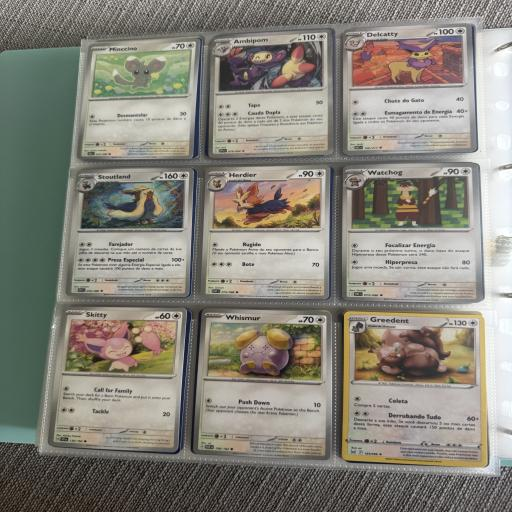card: (341, 312, 492, 467), (192, 305, 338, 460), (48, 301, 188, 452), (342, 162, 484, 303), (336, 23, 479, 159), (200, 162, 333, 300), (208, 27, 335, 160), (66, 168, 194, 297), (77, 38, 201, 160)
